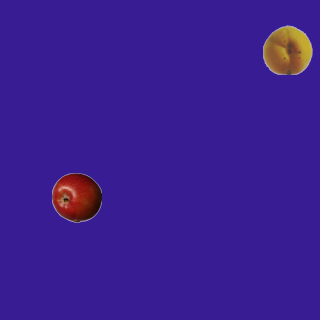Apple Braeburn: (51, 172, 101, 222)
Peach 2: (262, 24, 312, 74)
